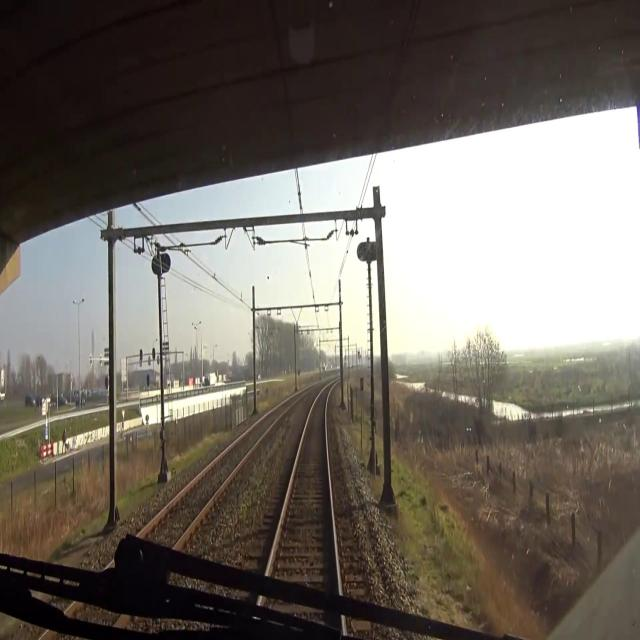rail-track: (141, 403, 287, 547), (268, 388, 337, 598)
